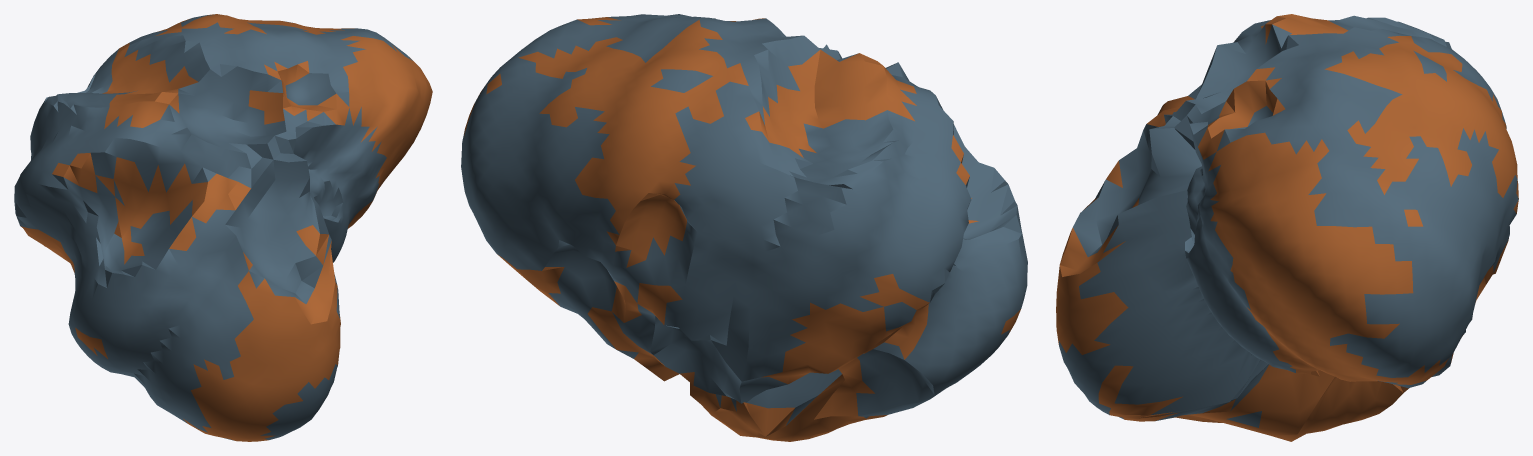
The model's file is medium-metallic-asteroid.glb.
The picture shows the model from 3 angles, left to right: view 1: azimuth 30°, elevation 25°; view 2: azimuth 150°, elevation 25°; view 3: azimuth 270°, elevation 25°; orthographic projection. The views are drawn at different scales.
Visible parts, largest first — view 1: body; view 2: body; view 3: body.
Part boxes in pixels (x1,y1,x2,y2): body: (14,14,432,441); body: (461,14,1027,441); body: (1056,14,1518,441).
Bounding box in the file's own units: 3.26 × 2.64 × 2.71.
